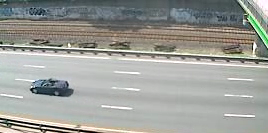car: (27, 77, 71, 98)
